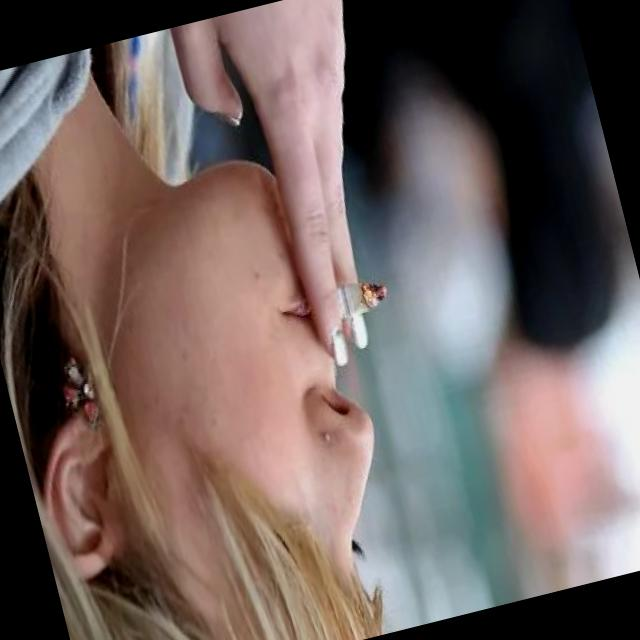cigarette: (316, 270, 404, 332)
